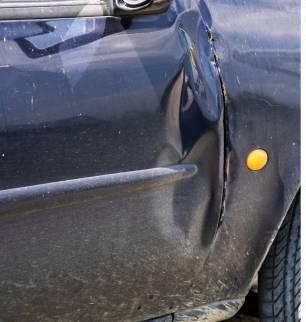dent: (154, 59, 232, 258)
